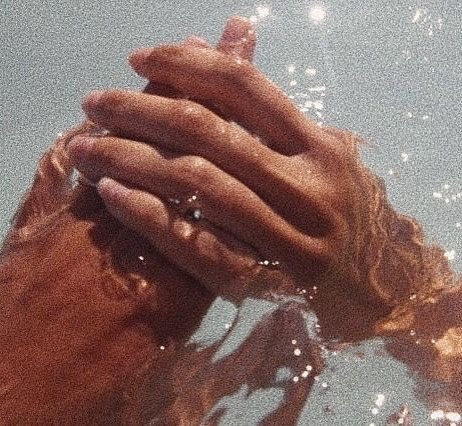hand: (74, 55, 418, 303)
